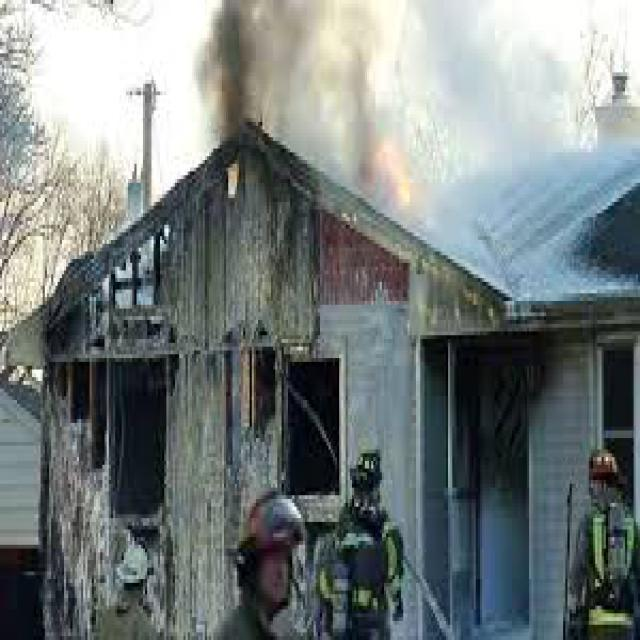Smoke: (183, 20, 621, 317)
